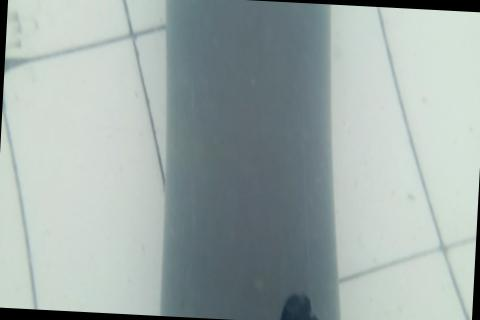kebocoran: (276, 289, 324, 320)
